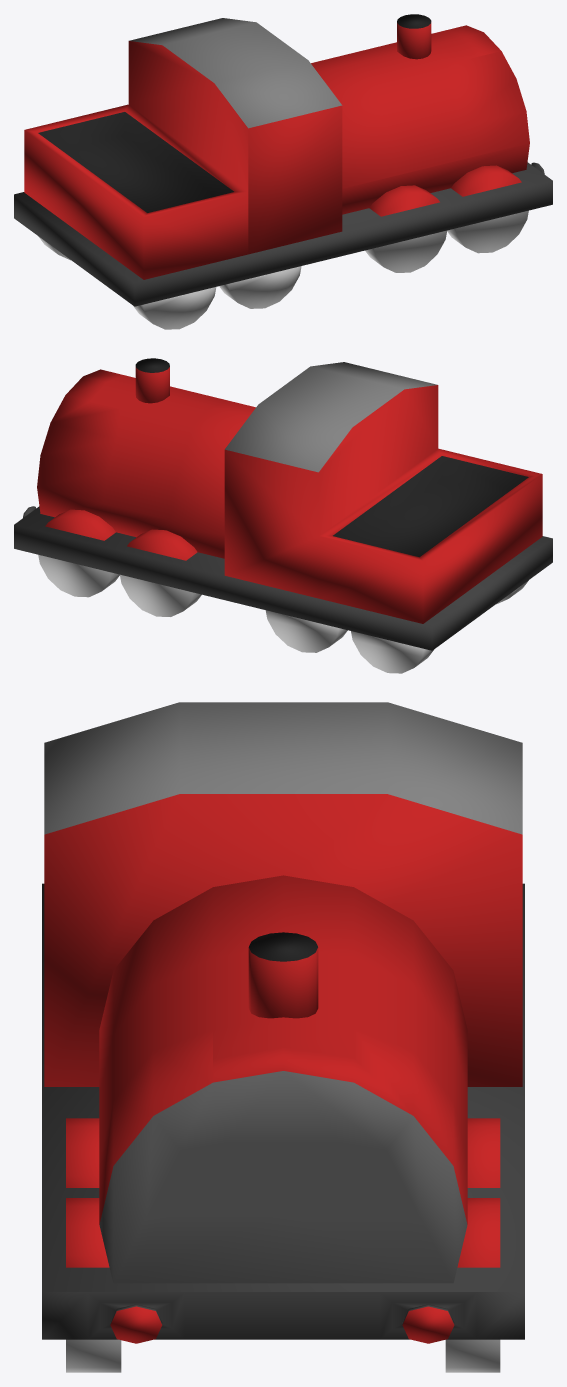
File: train.obj
3 views of the same model, one above another, from view 1: azimuth 30°, elevation 25°; view 2: azimuth 150°, elevation 25°; view 3: azimuth 270°, elevation 25° (orthographic). The views are drawn at different scales.
Visible parts, largest first — view 1: cab, boiler, base, wheels, funnel; view 2: cab, boiler, base, wheels, funnel; view 3: boiler, cab, base, wheels, funnel.
Boxes of the visible parts, box(x1,y1,x2,y2) form: cab: box(24, 18, 342, 279); boiler: box(311, 25, 529, 214); base: box(14, 162, 552, 306); wheels: box(38, 165, 528, 329); funnel: box(397, 14, 431, 59); cab: box(224, 362, 542, 623); boiler: box(37, 369, 255, 558); base: box(14, 506, 552, 650); wheels: box(38, 509, 528, 673); funnel: box(135, 358, 169, 403); boiler: box(99, 875, 467, 1283); cab: box(44, 702, 522, 1086); base: box(42, 883, 524, 1343); wheels: box(66, 1118, 500, 1372); funnel: box(248, 932, 318, 1018).
Bounding box in the file's own units: 4.09 × 1.92 × 2.
